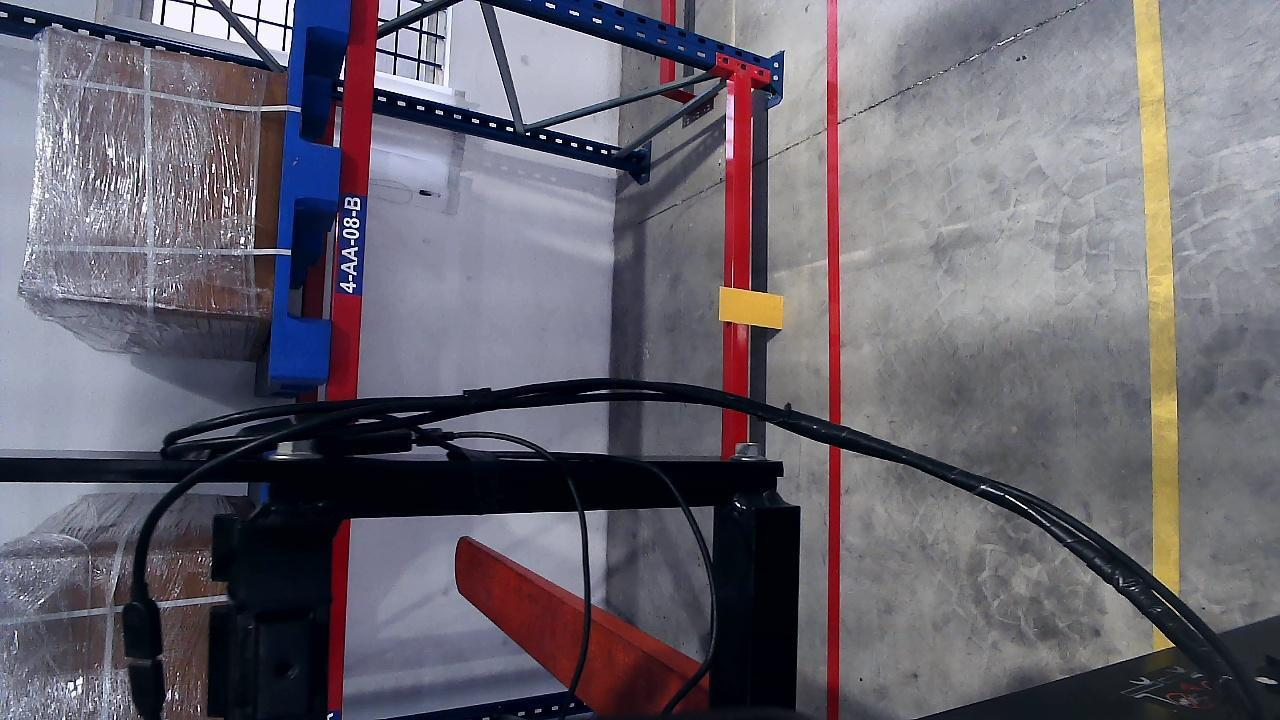red_line: (823, 0, 842, 720)
yellow_line: (1135, 0, 1181, 582)
